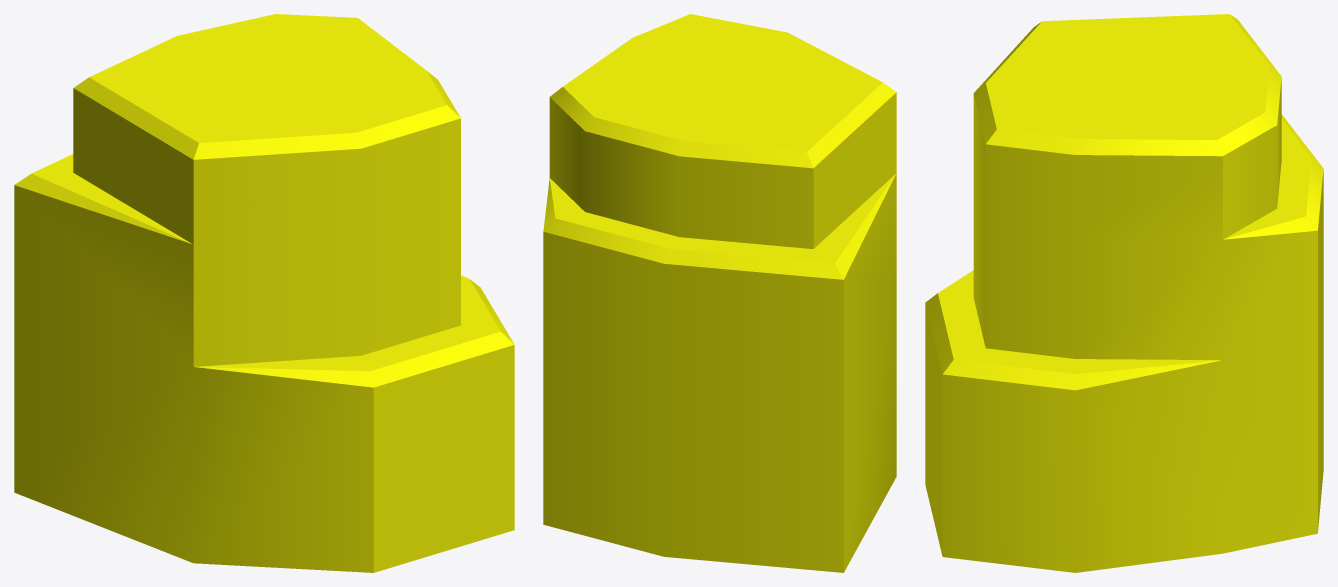
The model's file is kaykit-rock-1-g-color-1.glb.
The picture shows the model from 3 angles, left to right: view 1: azimuth 30°, elevation 25°; view 2: azimuth 150°, elevation 25°; view 3: azimuth 270°, elevation 25°; orthographic projection. The views are drawn at different scales.
Visible parts, largest first — view 1: Rock_1_G_Color1; view 2: Rock_1_G_Color1; view 3: Rock_1_G_Color1.
Boxes of the visible parts, x1=… form: Rock_1_G_Color1: x1=14, y1=14, x2=514, y2=572; Rock_1_G_Color1: x1=543, y1=14, x2=896, y2=572; Rock_1_G_Color1: x1=925, y1=14, x2=1323, y2=572.
Bounding box in the file's own units: 1.75 × 1.87 × 1.65.
